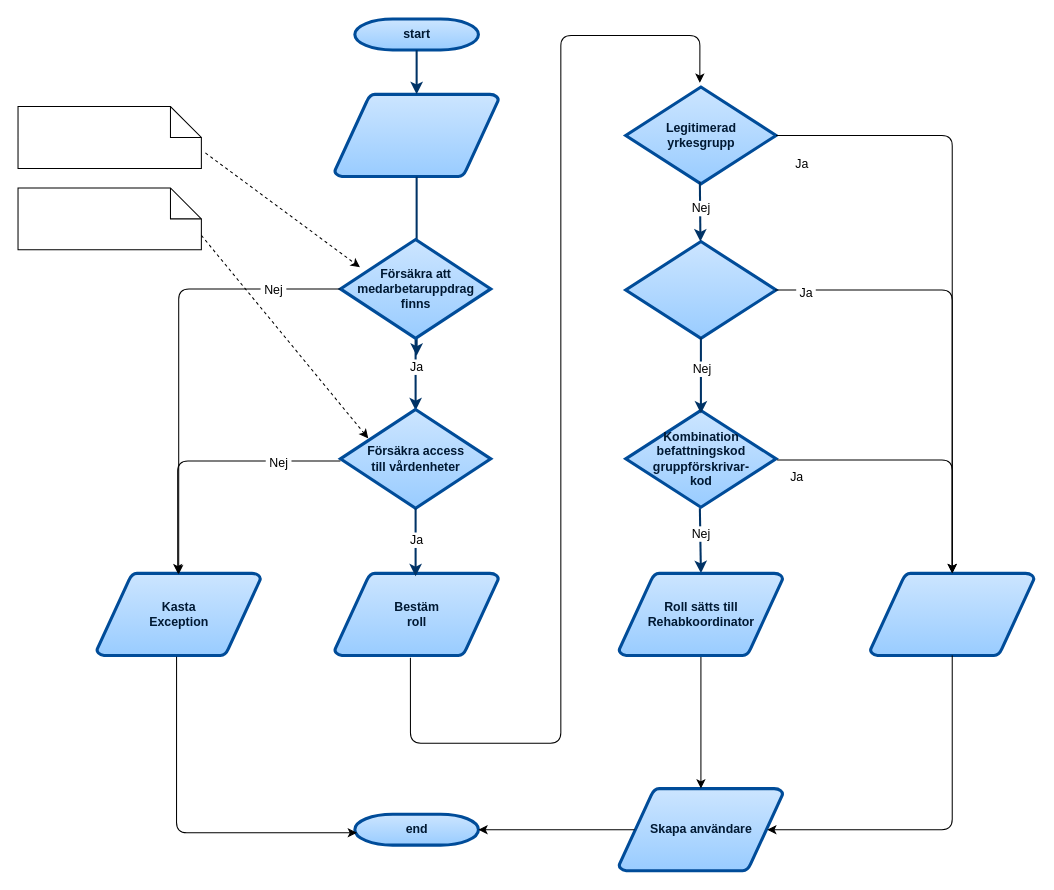
Some shapes in this 1054 by 890 pixel diagram are drawn without their labels. Each missing label, with the centre of its shape:
"Befattningskod" belongs at pixel 700 289.
"Försäkran görs utfrån information i SAML-biljett" belongs at pixel 109 137.
"Försäkran görs utfrån information som hämtas från HSA" belongs at pixel 109 218.
"Roll sätts till Läkare" belongs at pixel 951 614.
"Ta emot SAML-information" belongs at pixel 416 135.
